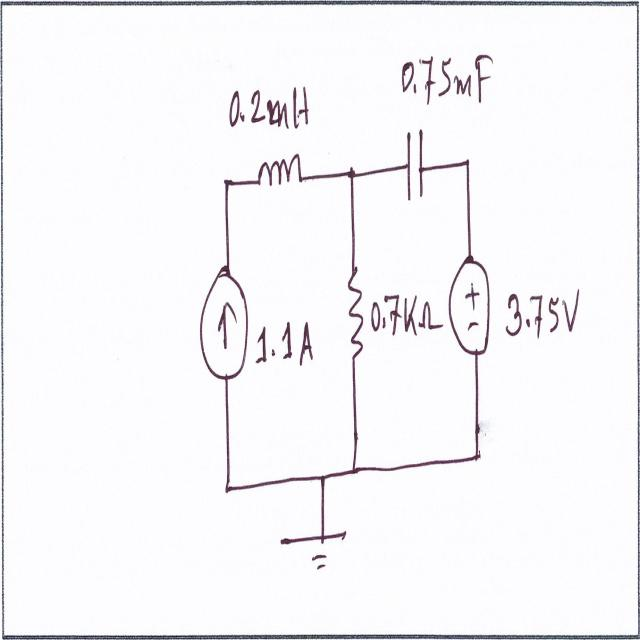capacitor: (404, 119, 430, 207)
current_source: (193, 256, 251, 395)
ground: (279, 530, 362, 580)
inductor: (256, 150, 306, 202)
resistor: (344, 256, 367, 371)
voltage_source: (446, 251, 493, 360)
